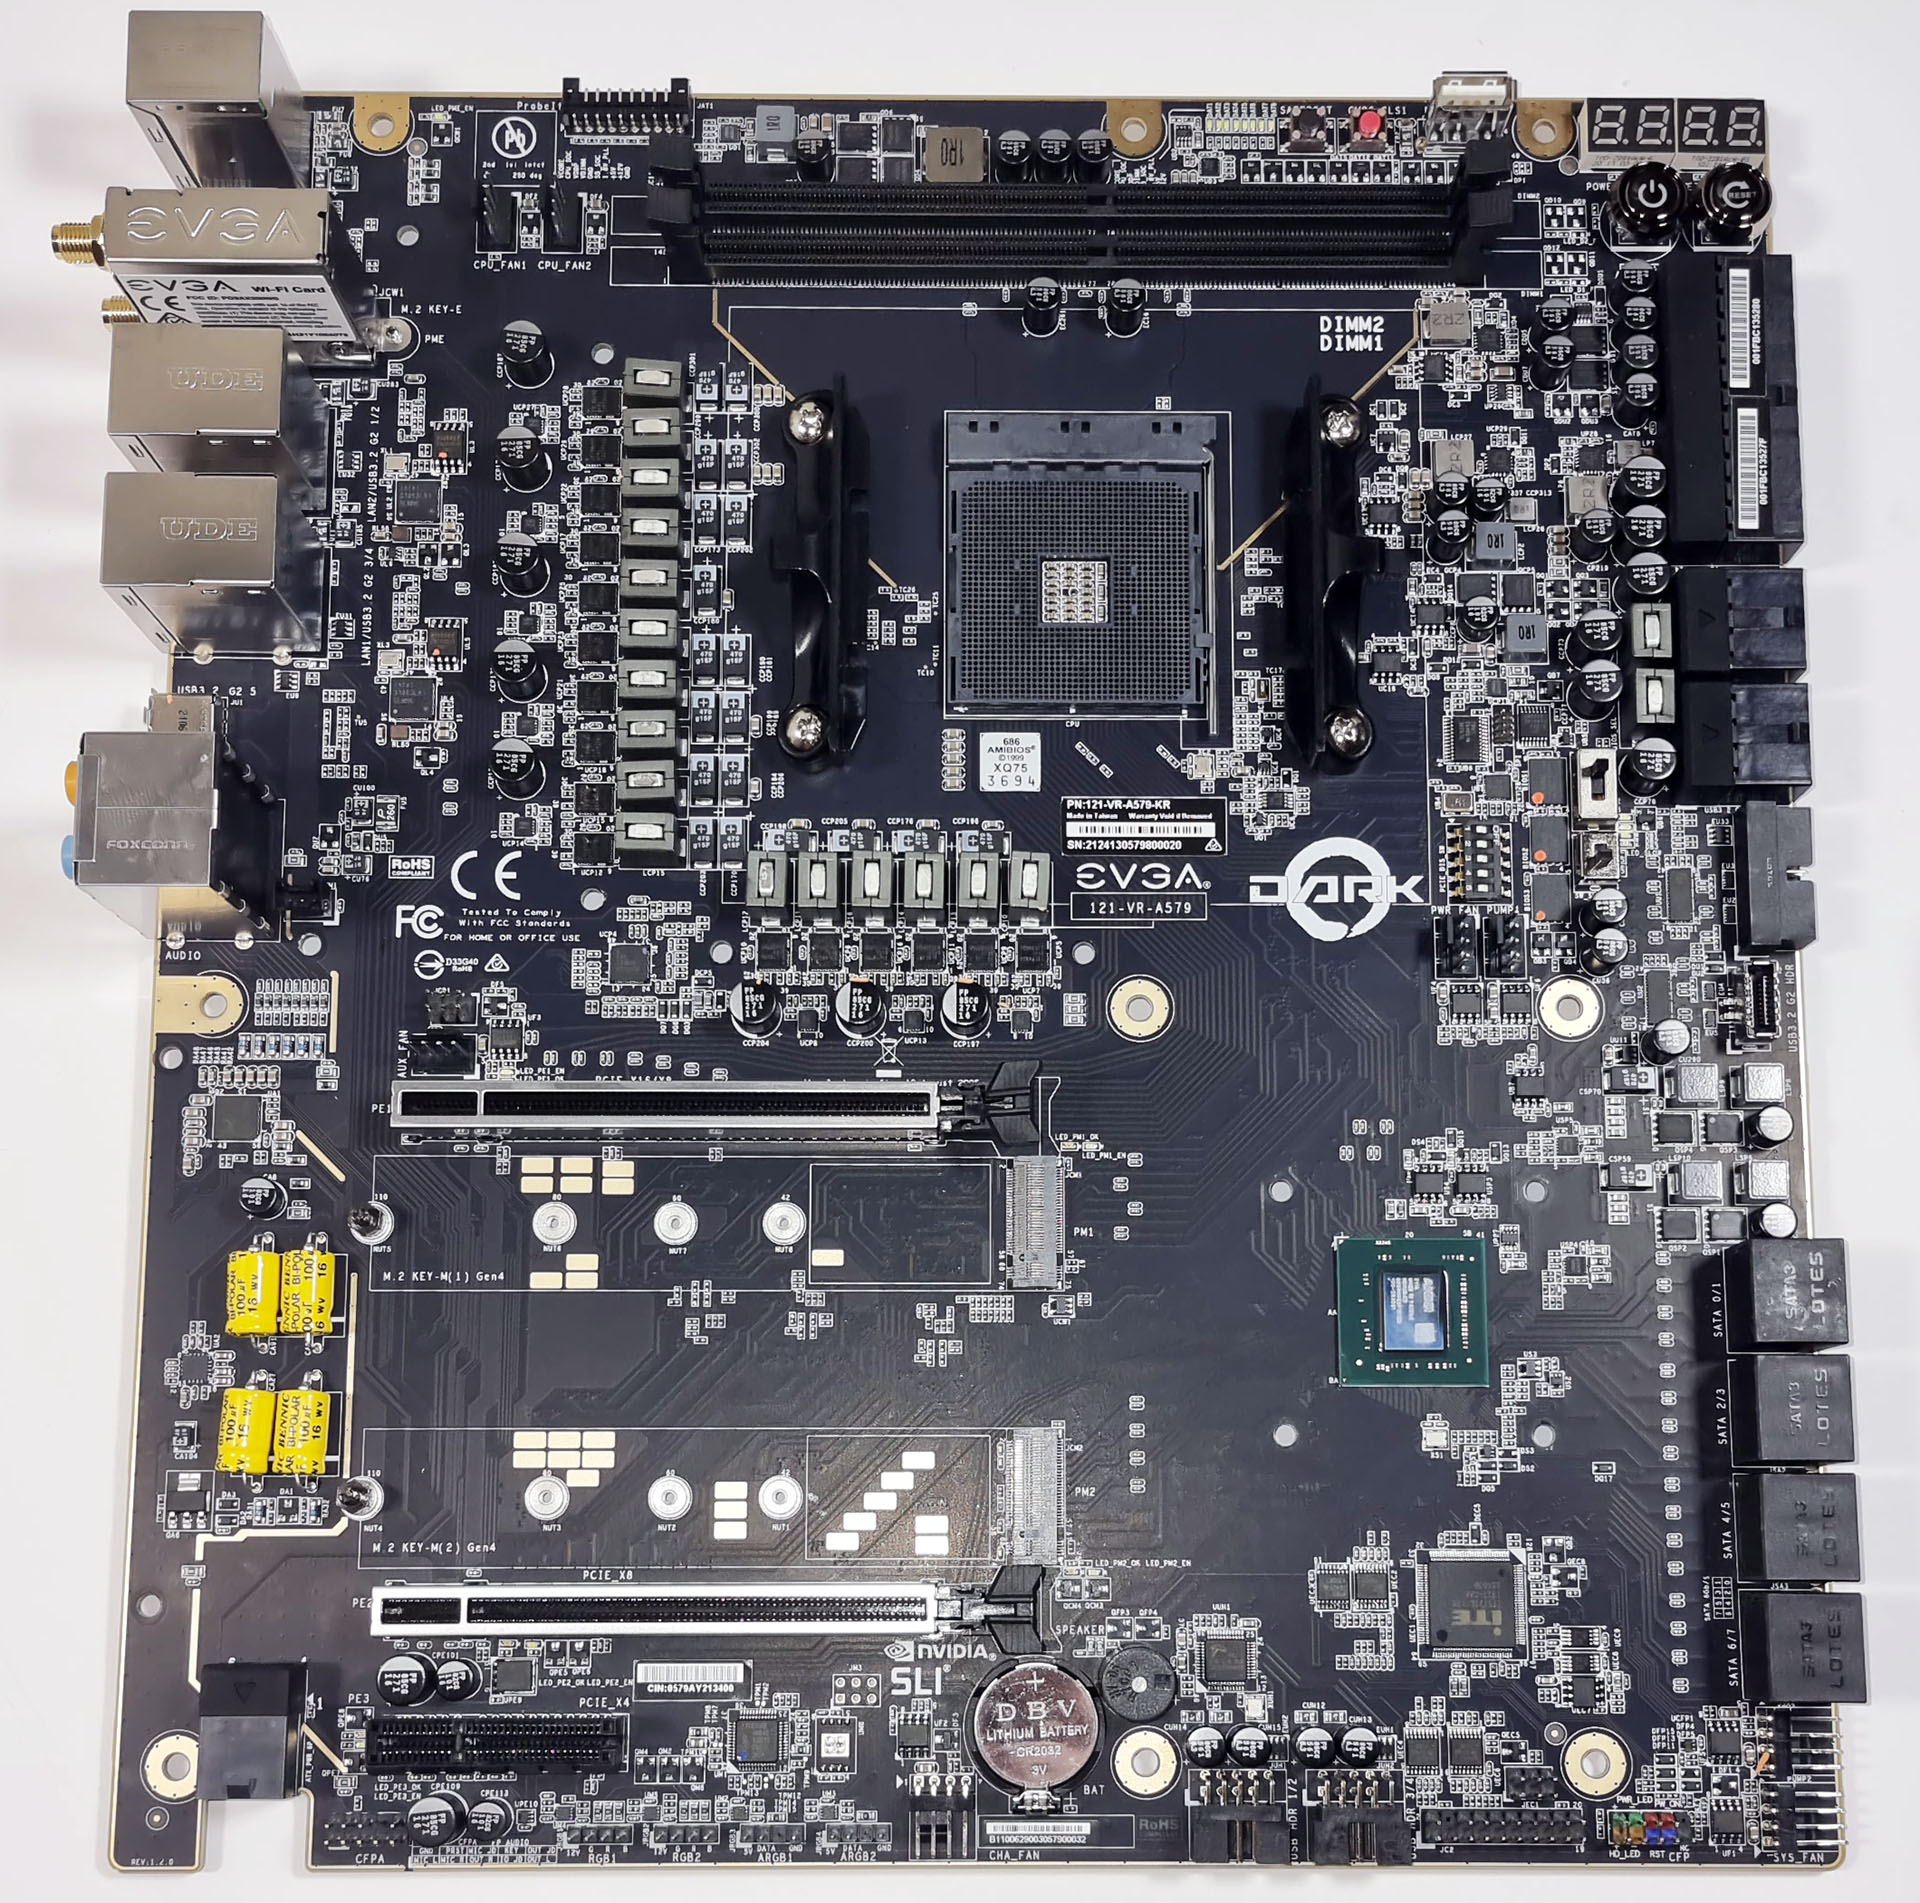Induktor: (923, 125, 986, 181), (753, 103, 796, 153), (1502, 612, 1545, 660), (1423, 301, 1470, 343), (1472, 523, 1516, 565), (1566, 476, 1608, 516), (1430, 437, 1472, 476), (1507, 497, 1533, 523), (1615, 439, 1641, 464)
